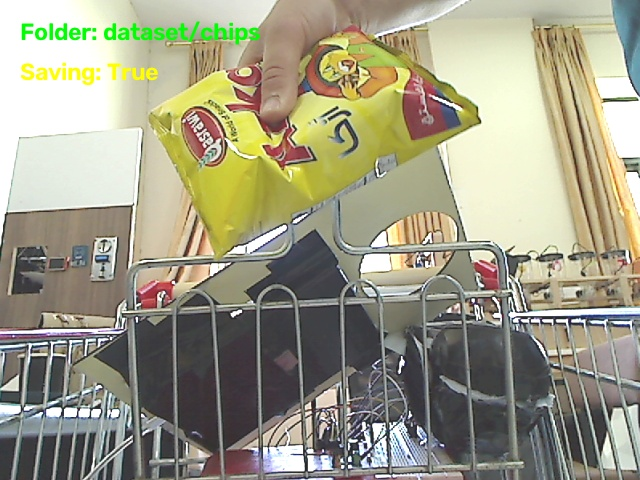chips: (150, 27, 478, 257)
